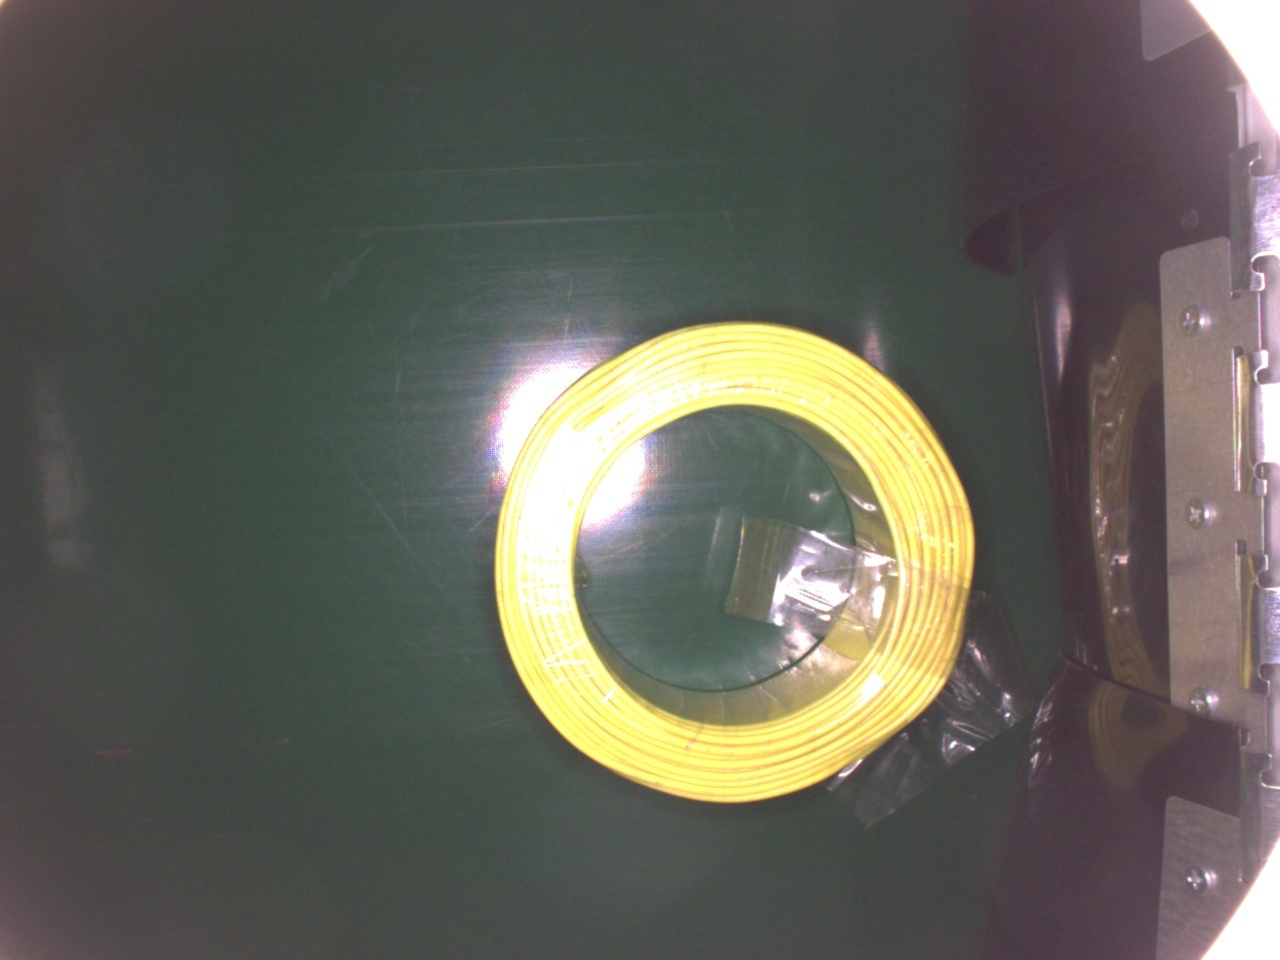yellow: (487, 318, 978, 802)
